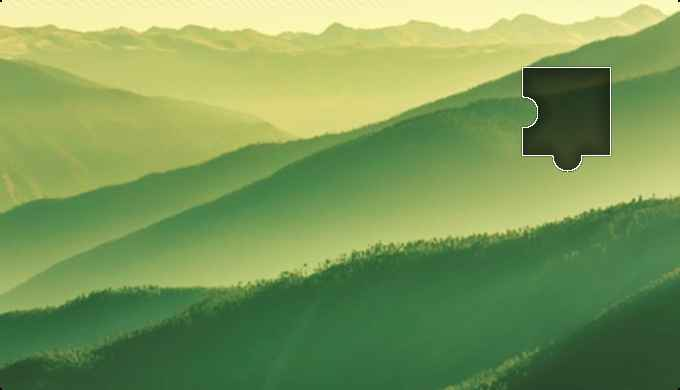gap: (525, 68, 610, 173)
